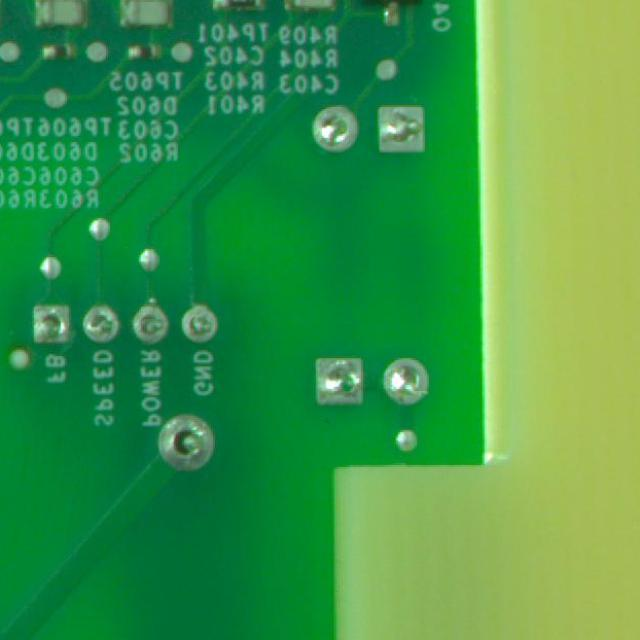Insufficient solder: (140, 400, 226, 482), (368, 98, 436, 162), (304, 351, 364, 422), (378, 357, 436, 423), (302, 100, 360, 160), (22, 300, 74, 354), (77, 299, 126, 349), (126, 299, 172, 347), (177, 302, 221, 344)
